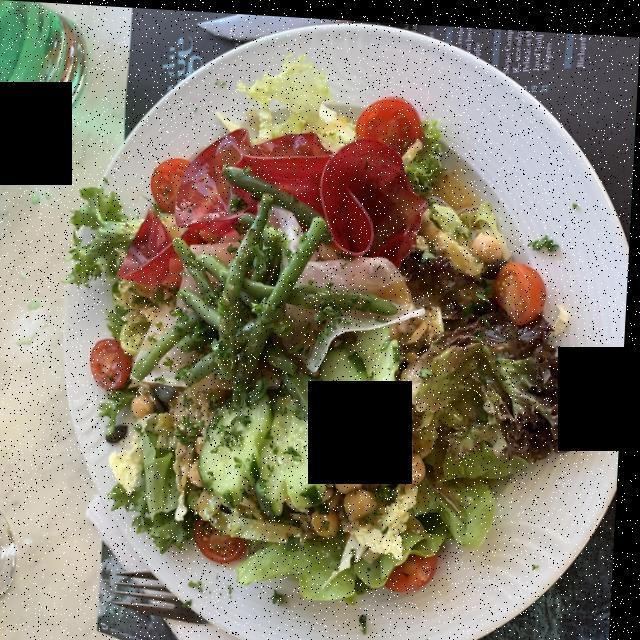beans: (125, 181, 404, 411)
chickpeas: (194, 358, 436, 535)
cucumber: (203, 296, 402, 511)
dried-meat: (116, 91, 418, 275)
salad: (232, 318, 559, 585)
